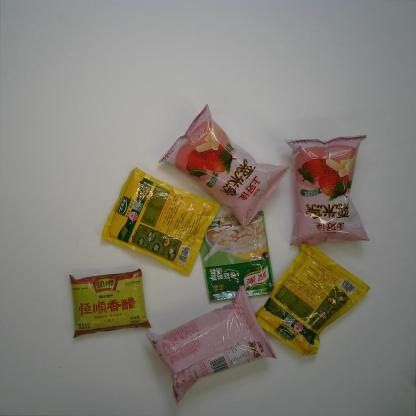Puffed Food: (157, 101, 290, 229), (145, 282, 277, 406), (286, 134, 370, 247)
Seasoner: (254, 243, 372, 358), (100, 167, 221, 277), (200, 209, 276, 304), (69, 268, 152, 338)
